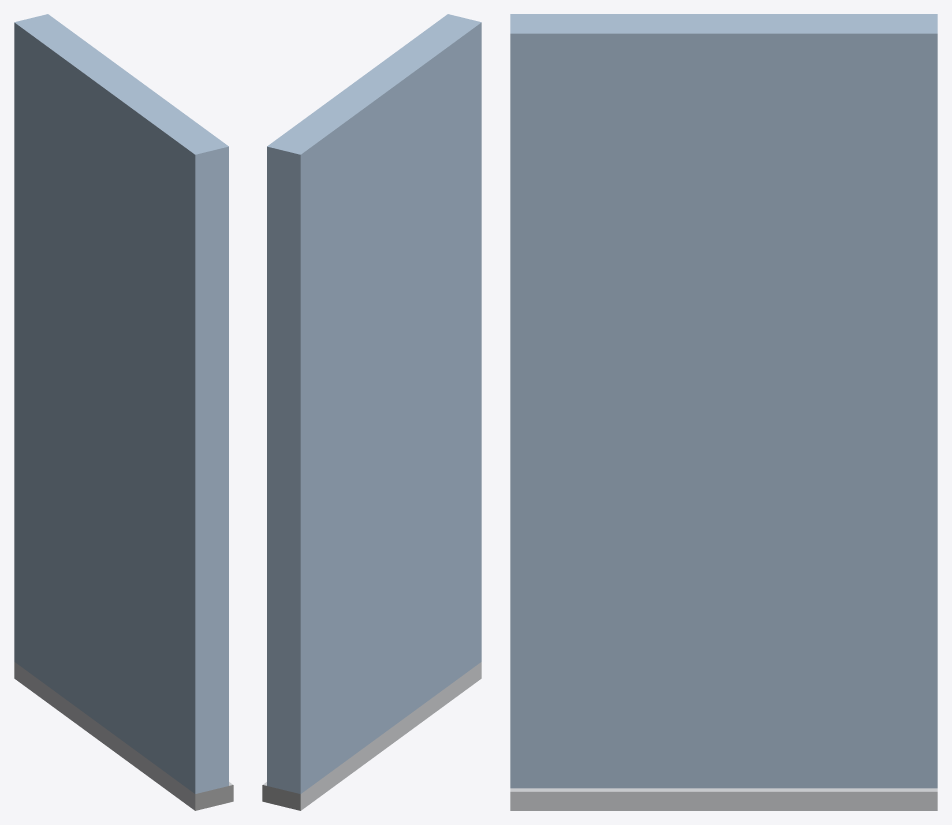
The model's file is wall_higher.fbx.
The picture shows the model from 3 angles, left to right: view 1: azimuth 30°, elevation 25°; view 2: azimuth 150°, elevation 25°; view 3: azimuth 270°, elevation 25°; orthographic projection. The views are drawn at different scales.
Parts seen in each view (by area): view 1: wall_empty35; view 2: wall_empty35; view 3: wall_empty35.
Part boxes in pixels (x1=…): wall_empty35: x1=14, y1=14, x2=233, y2=810; wall_empty35: x1=262, y1=14, x2=481, y2=810; wall_empty35: x1=510, y1=14, x2=937, y2=810.
Size of the model in its own units: 24.6 by 400 by 200.
